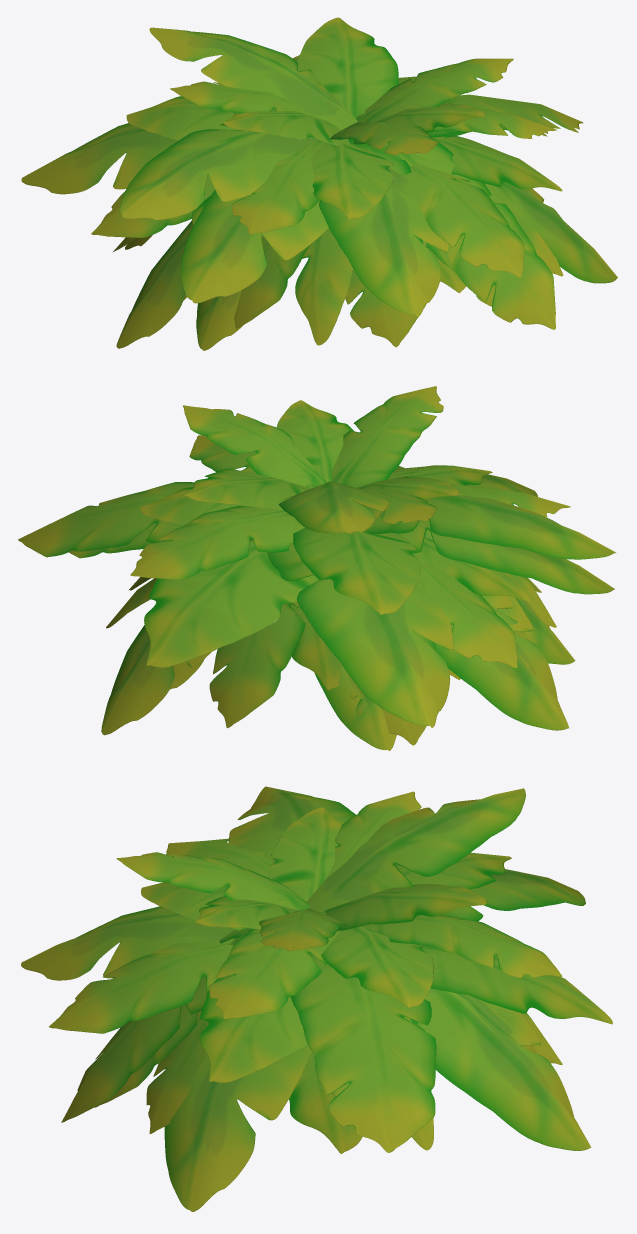
File: Foliage_Palm_v02.fbx
3 renders of one model, top to bottom at view 1: azimuth 30°, elevation 25°; view 2: azimuth 150°, elevation 25°; view 3: azimuth 270°, elevation 25°, orthographic. The views are drawn at different scales.
Visible parts, largest first — view 1: Folliage_Palm02; view 2: Folliage_Palm02; view 3: Folliage_Palm02.
Part boxes in pixels (x1=…): Folliage_Palm02: x1=21, y1=17, x2=617, y2=350; Folliage_Palm02: x1=18, y1=386, x2=615, y2=750; Folliage_Palm02: x1=21, y1=786, x2=612, y2=1211.
Size of the model in its own units: 7.16 by 3.02 by 6.37.
